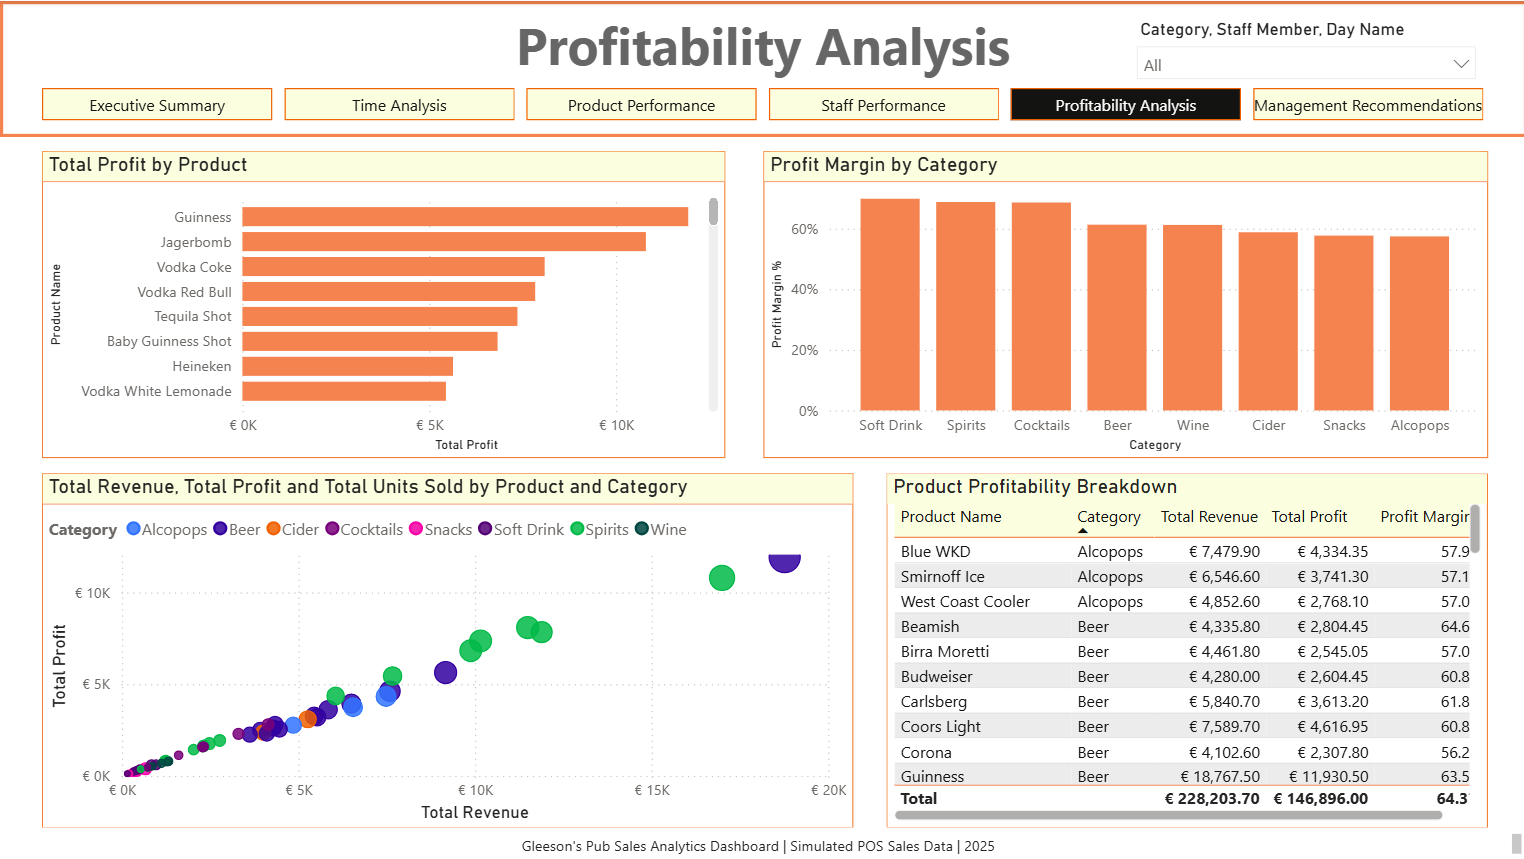

What the dashboard file says about the page in this screenshot:
{"tool":"powerbi","page":{"name":"Profitability Analysis","canvas":[1280,720],"ordinal":4},"visuals":[{"type":"barChart","title":"Total Profit by Product ","fields":{"Y":["pub_sales_data.Total Profit"],"Category":["pub_sales_data.Product Name"]},"box":[35.7,125.7,572.9,257.1],"z":0},{"type":"columnChart","title":"Profit Margin by Category","fields":{"Y":["pub_sales_data.Profit Margin %"],"Category":["pub_sales_data.Category"]},"box":[640,125.7,607.1,257.1],"z":1000},{"type":"scatterChart","title":"Total Revenue, Total Profit and Total Units Sold by Product and Category","fields":{"X":["pub_sales_data.Total Revenue"],"Y":["pub_sales_data.Total Profit"],"Category":["pub_sales_data.Product Name"],"Size":["pub_sales_data.Total Units Sold"],"Series":["pub_sales_data.Category"]},"box":[35.7,395.7,680,297.1],"z":2000},{"type":"tableEx","title":"Product Profitability Breakdown","fields":{"Values":["pub_sales_data.Product Name","pub_sales_data.Category","pub_sales_data.Total Revenue","pub_sales_data.Total Profit","pub_sales_data.Profit Margin %"]},"box":[742.9,395.7,504.3,297.1],"z":3000},{"type":"textbox","box":[0,0,1280,114.3],"z":4000},{"type":"slicer","fields":{"Values":["pub_sales_data.Category","pub_sales_data.Staff Member","pub_sales_data.Day Name"]},"box":[942.9,10,304.3,62.9],"z":5000},{"type":"textbox","box":[0,692.9,1280,27.1],"z":6000},{"type":"pageNavigator","box":[35.7,72.9,1211.4,27.1],"z":7000}]}

Visuals, with their boxes in screenshot pixels (x1, y1, x2, y2), scaled from the page's 1280x720 canvas onto the 1524x859 screenshot:
"Total Profit by Product " barChart: [x1=43, y1=150, x2=725, y2=457]
"Profit Margin by Category" columnChart: [x1=762, y1=150, x2=1485, y2=457]
"Total Revenue, Total Profit and Total Units Sold by Product and Category" scatterChart: [x1=43, y1=472, x2=852, y2=827]
"Product Profitability Breakdown" tableEx: [x1=885, y1=472, x2=1485, y2=827]
textbox: [x1=0, y1=0, x2=1523, y2=136]
slicer - pub_sales_data.Category x pub_sales_data.Staff Member: [x1=1123, y1=12, x2=1485, y2=87]
textbox: [x1=0, y1=827, x2=1523, y2=858]
pageNavigator: [x1=43, y1=87, x2=1485, y2=119]
